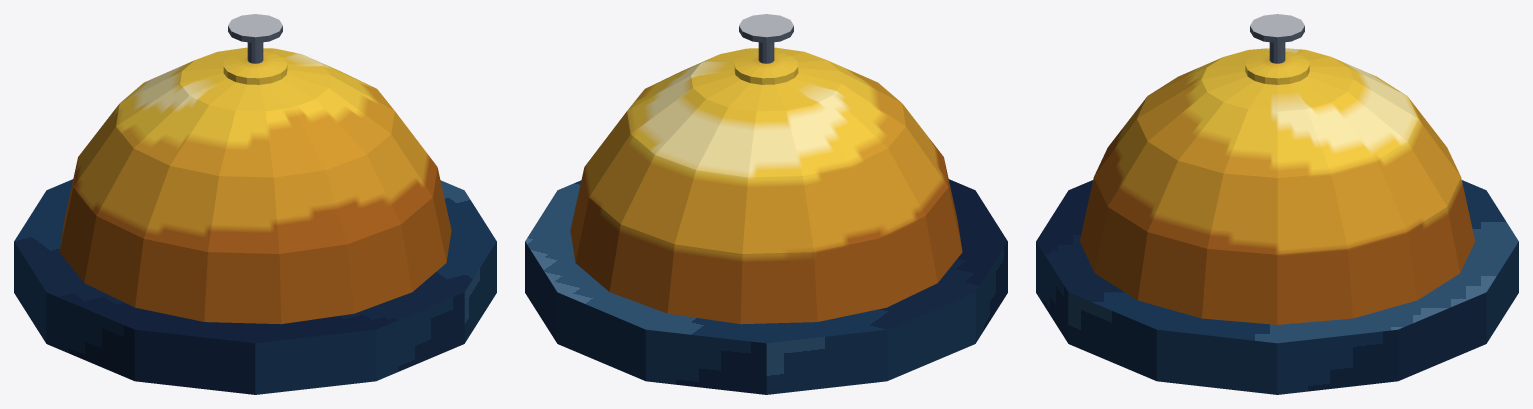
Rendered from bell.fbx.
3 views of the same model, side by side, from view 1: azimuth 30°, elevation 25°; view 2: azimuth 150°, elevation 25°; view 3: azimuth 270°, elevation 25° (orthographic).
Parts seen in each view (by area): view 1: Sphere, Cylinder, Cylinder.002; view 2: Sphere, Cylinder, Cylinder.002; view 3: Sphere, Cylinder, Cylinder.002.
Boxes of the visible parts, left/top/right/bottom form: Sphere: left=59, top=47, right=451, bottom=324; Cylinder: left=14, top=179, right=496, bottom=394; Cylinder.002: left=228, top=14, right=282, bottom=42; Sphere: left=570, top=47, right=962, bottom=324; Cylinder: left=525, top=179, right=1007, bottom=394; Cylinder.002: left=739, top=14, right=793, bottom=42; Sphere: left=1079, top=48, right=1475, bottom=324; Cylinder: left=1036, top=180, right=1518, bottom=394; Cylinder.002: left=1250, top=14, right=1304, bottom=42.
Bounding box in the file's own units: 200 × 122 × 200.
